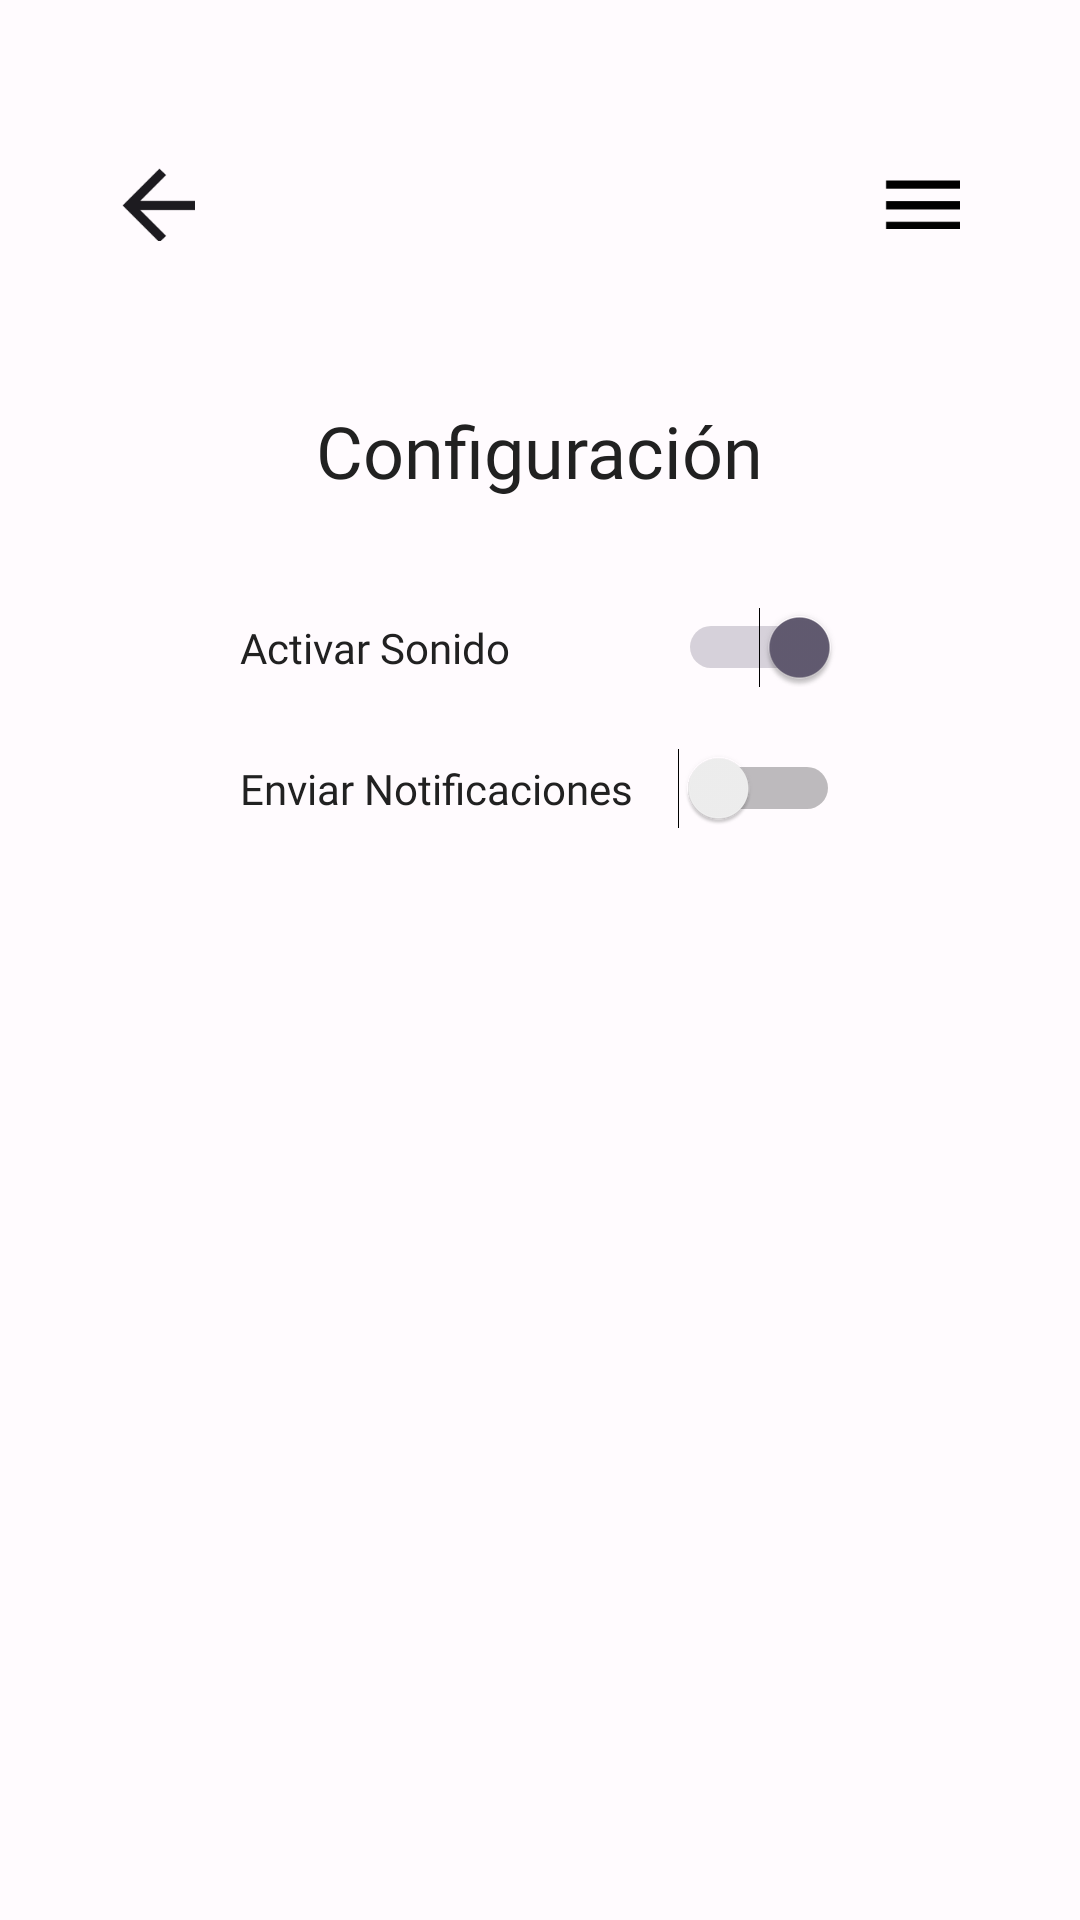

Icon click points for this 1080 × 1920 phone screenshot, format [x,y]:
Menú: [922,204]
Volver: [158,204]
